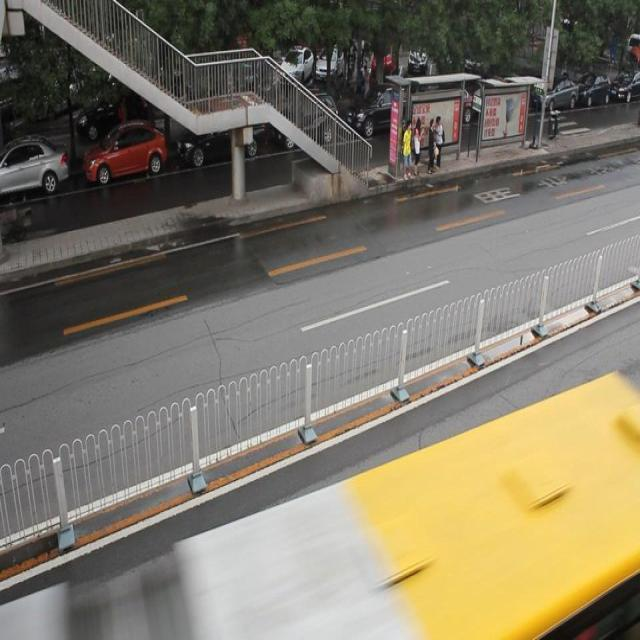car: (177, 94, 266, 163), (84, 122, 169, 180), (347, 80, 415, 139), (1, 138, 68, 196), (275, 92, 337, 147)
van: (0, 375, 640, 640)
